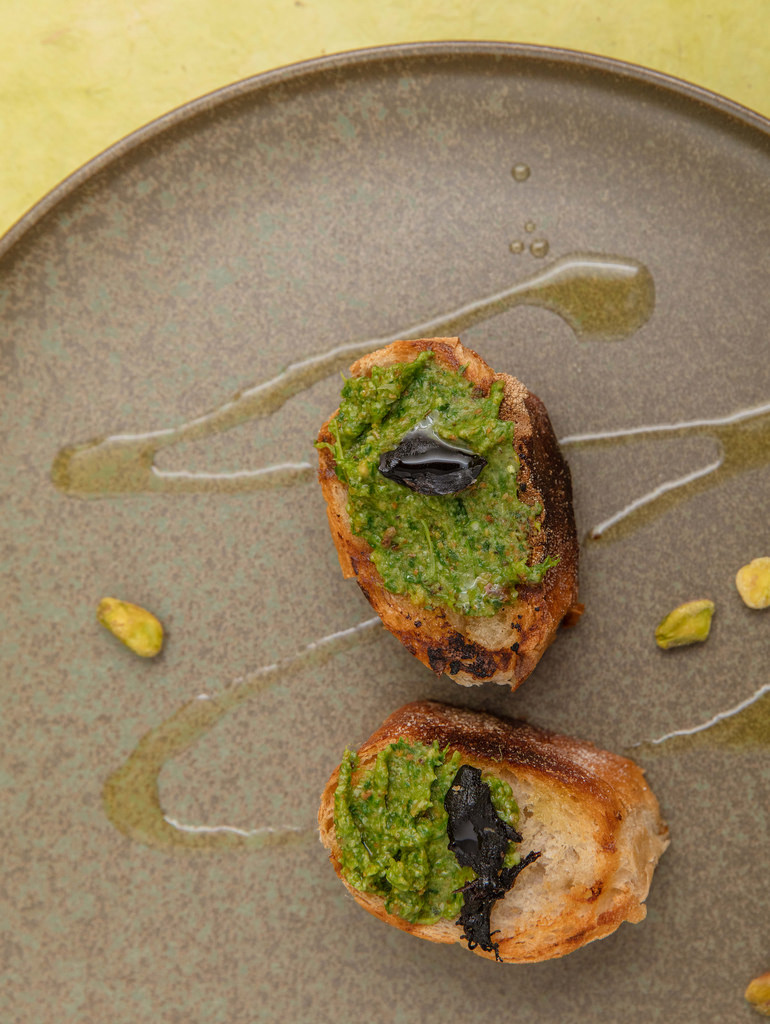slice of bread: (330, 352, 593, 695), (322, 713, 672, 970)
